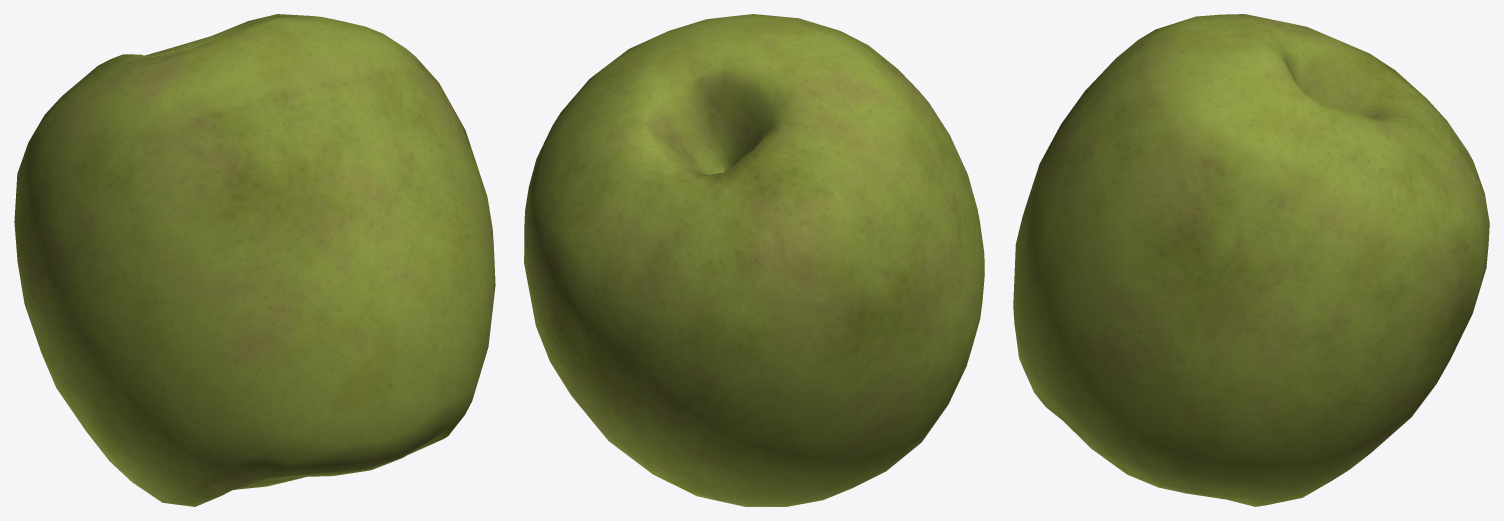
File: GreenFruitApple.fbx
The picture shows the model from 3 angles, left to right: view 1: azimuth 30°, elevation 25°; view 2: azimuth 150°, elevation 25°; view 3: azimuth 270°, elevation 25°; orthographic projection. The views are drawn at different scales.
Visible parts, largest first — view 1: Apple; view 2: Apple; view 3: Apple.
Part boxes in pixels (left/top/right/bottom): Apple: left=14, top=14, right=495, bottom=506; Apple: left=524, top=14, right=984, bottom=506; Apple: left=1013, top=14, right=1489, bottom=506.
Bounding box in the file's own units: 0.0865 × 0.0907 × 0.0933.
1 material, 1 textured.
